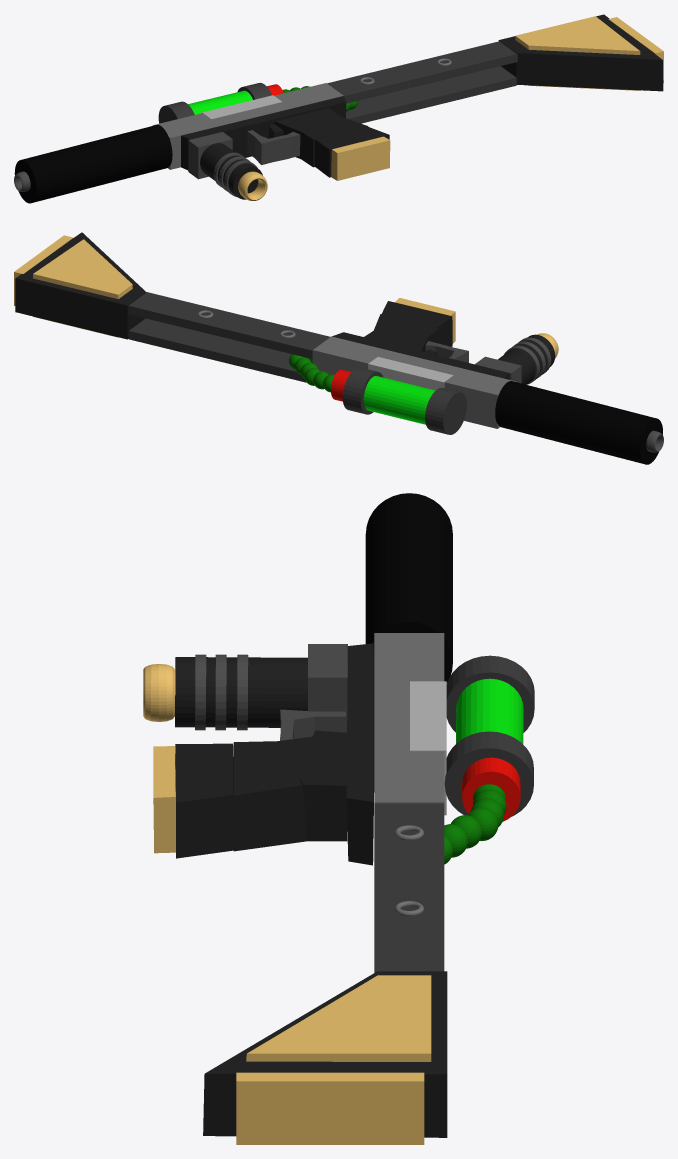
Rendered from SMG02.fbx.
The picture shows the model from 3 angles, top to bottom: view 1: azimuth 30°, elevation 25°; view 2: azimuth 150°, elevation 25°; view 3: azimuth 270°, elevation 25°; orthographic projection. The views are drawn at different scales.
Parts seen in each view (by area): view 1: Cylinder, Cube.014, Cube.012, Cube.013, Cube.016, Cube.002, Cube.001, Cube.004, Cylinder.005, Cube, Cube.005, Cube.015 (+9 smaller); view 2: Cylinder, Cube.014, Cube.012, Cube.002, Cube.013, Cube.016, Cylinder.001, Cylinder.009, Cube.011, Cube.001, Cube, Cylinder.002 (+7 smaller); view 3: Cube.017, Cylinder, Cube.012, Cube.016, Cube.002, Cube.014, Cube.005, Cylinder.005, Cube, Cube.001, Cube.003, Cylinder.002 (+7 smaller).
Boxes of the visible parts, x1,y1,x2,y2 form: Cylinder: [14, 124, 172, 203]; Cube.014: [498, 14, 663, 91]; Cube.012: [327, 41, 517, 103]; Cube.013: [346, 66, 516, 123]; Cube.016: [515, 16, 640, 90]; Cube.002: [152, 83, 343, 169]; Cube.001: [181, 96, 346, 170]; Cube.004: [331, 136, 390, 180]; Cylinder.005: [200, 143, 262, 199]; Cube: [315, 126, 389, 177]; Cube.005: [301, 116, 368, 167]; Cube.015: [188, 132, 232, 179]; Cylinder: [495, 381, 662, 464]; Cube.014: [15, 232, 146, 339]; Cube.012: [128, 292, 330, 358]; Cube.002: [312, 336, 516, 428]; Cube.013: [128, 318, 306, 382]; Cube.016: [33, 239, 132, 337]; Cylinder.001: [363, 376, 435, 424]; Cylinder.009: [425, 387, 466, 434]; Cube.011: [368, 357, 453, 390]; Cube.001: [332, 332, 508, 379]; Cube: [382, 301, 452, 346]; Cylinder.002: [342, 367, 383, 414]; Cube.017: [236, 1072, 424, 1144]; Cylinder: [365, 493, 452, 683]; Cube.012: [374, 803, 444, 972]; Cube.016: [246, 975, 431, 1061]; Cube.002: [374, 633, 444, 803]; Cube.014: [203, 971, 447, 1137]; Cube.005: [233, 741, 306, 851]; Cylinder.005: [175, 657, 307, 727]; Cube: [175, 743, 233, 858]; Cube.001: [346, 643, 374, 865]; Cube.003: [277, 732, 347, 841]; Cylinder.002: [444, 731, 533, 816].
Bounding box in the file's own units: 3964 × 269 × 1115.
